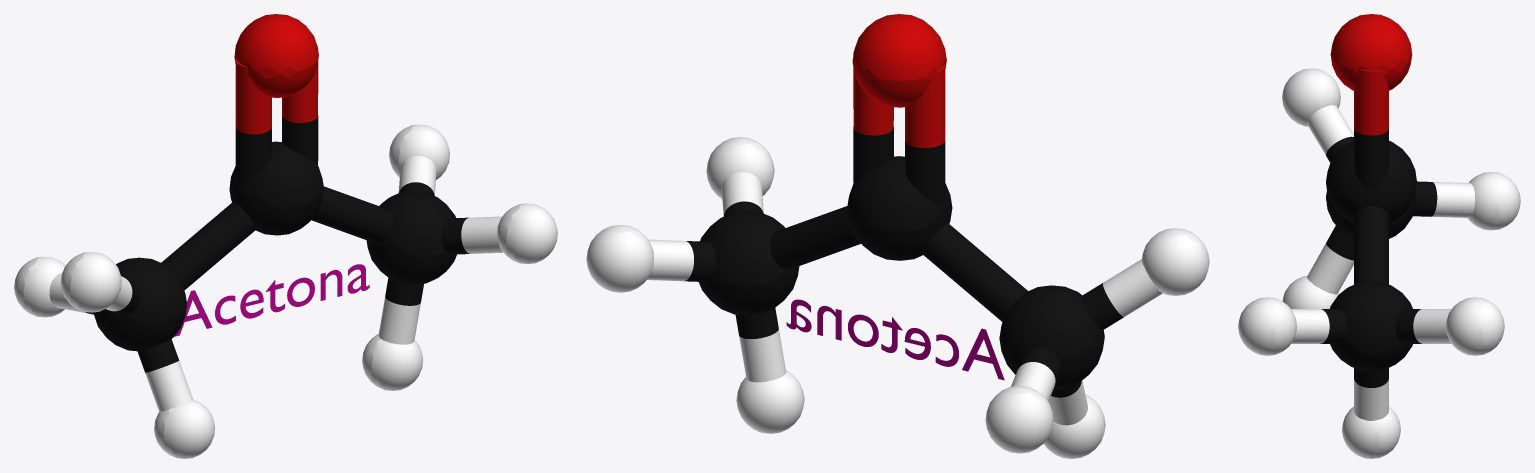
The model's file is acetona.obj.
3 renders of one model, left to right at view 1: azimuth 30°, elevation 25°; view 2: azimuth 150°, elevation 25°; view 3: azimuth 270°, elevation 25°, orthographic. The views are drawn at different scales.
Visible parts, largest first — view 1: Shape_IndexedFaceSet.017_Shape_IndexedFaceSet.326, Shape_IndexedFaceSet.028_Shape_IndexedFaceSet.337, Shape_IndexedFaceSet.037_Shape_IndexedFaceSet.346, Text_Text.010; view 2: Shape_IndexedFaceSet.017_Shape_IndexedFaceSet.326, Shape_IndexedFaceSet.028_Shape_IndexedFaceSet.337, Shape_IndexedFaceSet.037_Shape_IndexedFaceSet.346, Text_Text.010; view 3: Shape_IndexedFaceSet.028_Shape_IndexedFaceSet.337, Shape_IndexedFaceSet.017_Shape_IndexedFaceSet.326, Shape_IndexedFaceSet.037_Shape_IndexedFaceSet.346.
Part boxes in pixels (box(x1,y1,x2,y2)): Shape_IndexedFaceSet.017_Shape_IndexedFaceSet.326: box(85, 115, 469, 372); Shape_IndexedFaceSet.028_Shape_IndexedFaceSet.337: box(14, 124, 557, 458); Shape_IndexedFaceSet.037_Shape_IndexedFaceSet.346: box(234, 14, 318, 134); Text_Text.010: box(174, 264, 369, 336); Shape_IndexedFaceSet.017_Shape_IndexedFaceSet.326: box(685, 127, 1123, 397); Shape_IndexedFaceSet.028_Shape_IndexedFaceSet.337: box(586, 137, 1209, 458); Shape_IndexedFaceSet.037_Shape_IndexedFaceSet.346: box(852, 14, 946, 147); Text_Text.010: box(786, 299, 1004, 380); Shape_IndexedFaceSet.028_Shape_IndexedFaceSet.337: box(1238, 68, 1520, 458); Shape_IndexedFaceSet.017_Shape_IndexedFaceSet.326: box(1320, 129, 1437, 387); Shape_IndexedFaceSet.037_Shape_IndexedFaceSet.346: box(1330, 14, 1412, 135).
Size of the model in its own units: 44.47 by 36.36 by 24.24.
